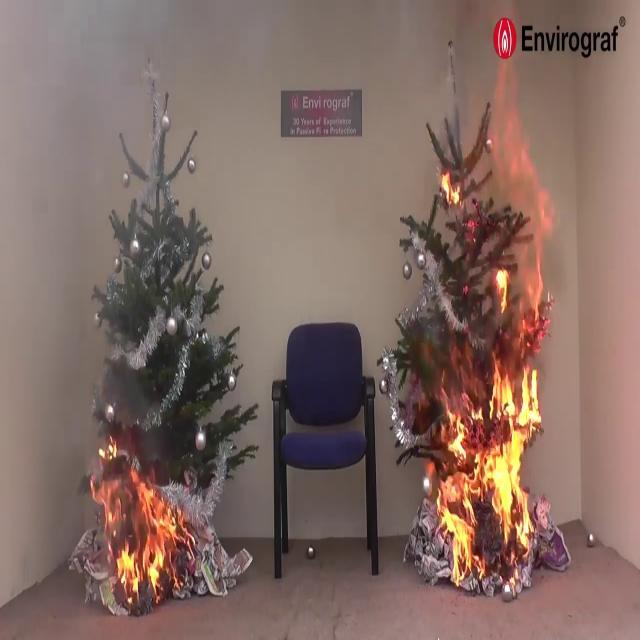Fire: (433, 379, 542, 585), (106, 460, 186, 600), (436, 169, 462, 207), (494, 265, 512, 312)
